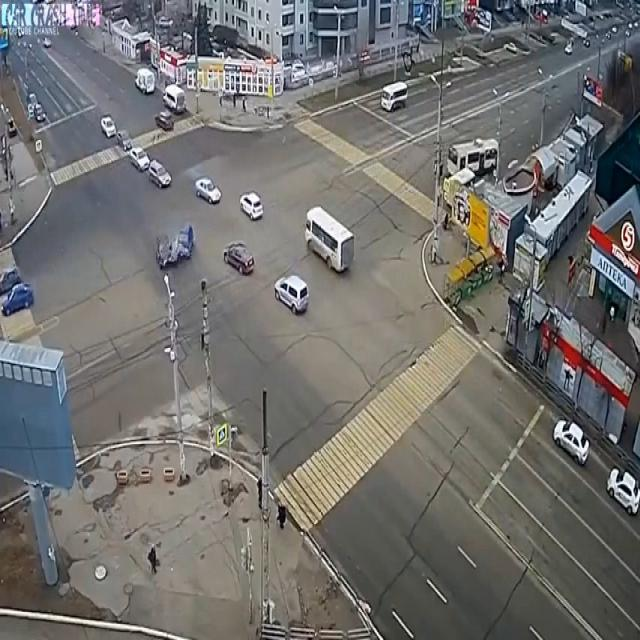Accident: (154, 210, 196, 292)
